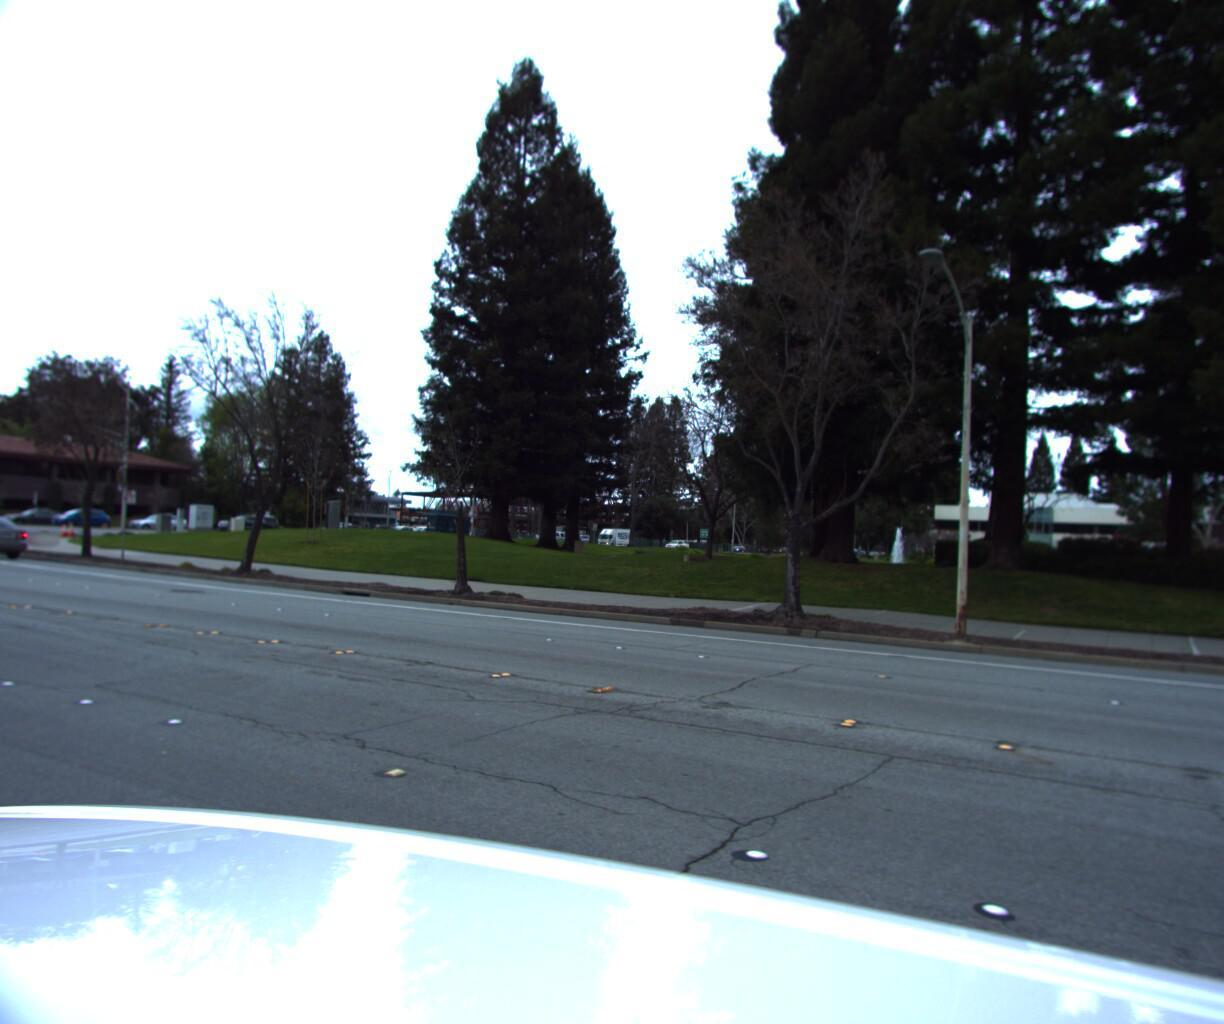car: (44, 509, 118, 532), (121, 514, 194, 535)
